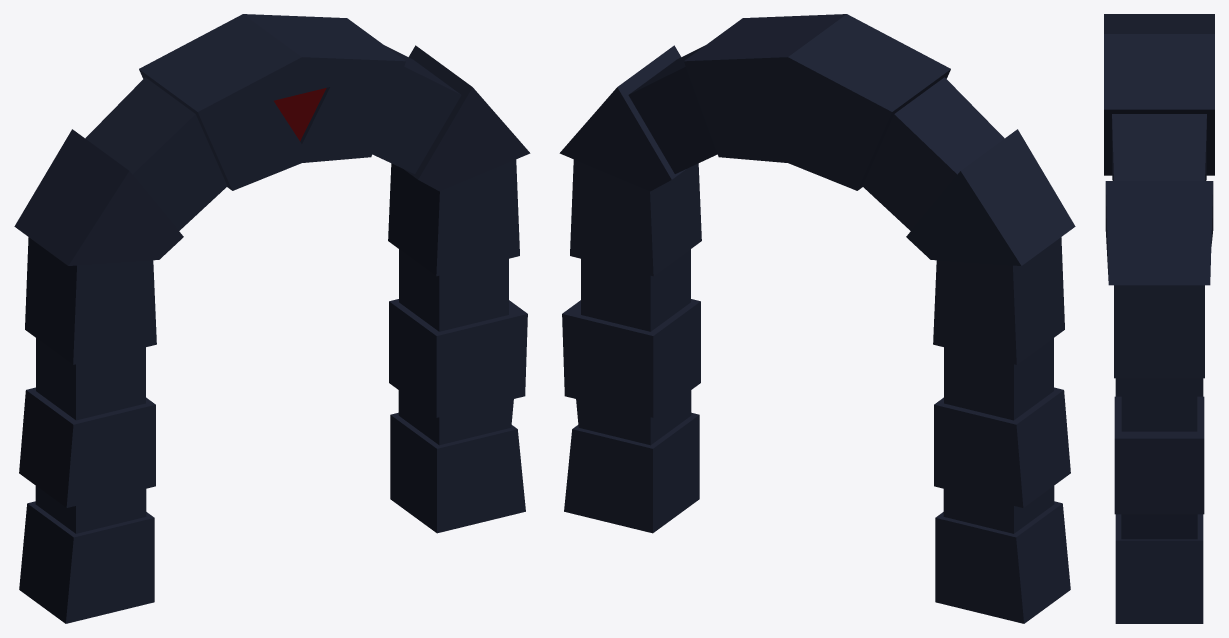
Rendered from Wall_DoorArc.obj.
3 renders of one model, left to right at view 1: azimuth 30°, elevation 25°; view 2: azimuth 150°, elevation 25°; view 3: azimuth 270°, elevation 25°, orthographic. The views are drawn at different scales.
Parts seen in each view (by area): view 1: EXPORT_Wall_DoorArc; view 2: EXPORT_Wall_DoorArc; view 3: EXPORT_Wall_DoorArc.
Part boxes in pixels (x1,y1,x2,y2): EXPORT_Wall_DoorArc: (14, 14, 530, 623); EXPORT_Wall_DoorArc: (559, 14, 1075, 623); EXPORT_Wall_DoorArc: (1104, 14, 1214, 623).
Size of the model in its own units: 3.31 by 3.52 by 0.7309.
